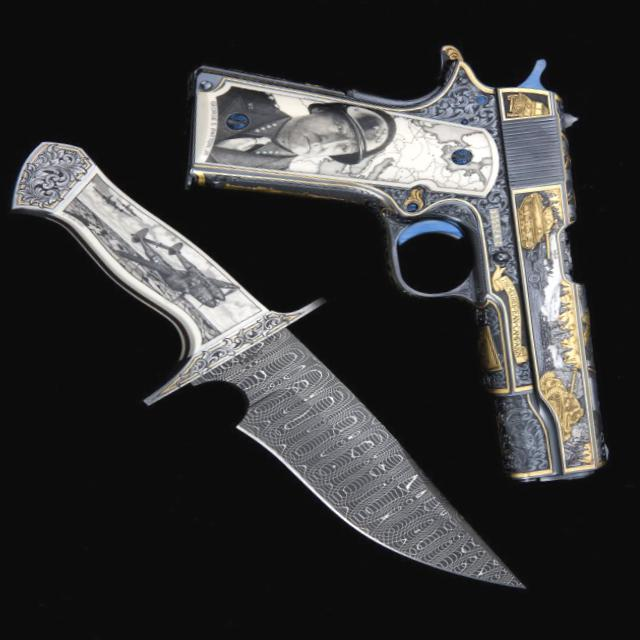handgun: (174, 11, 620, 523)
